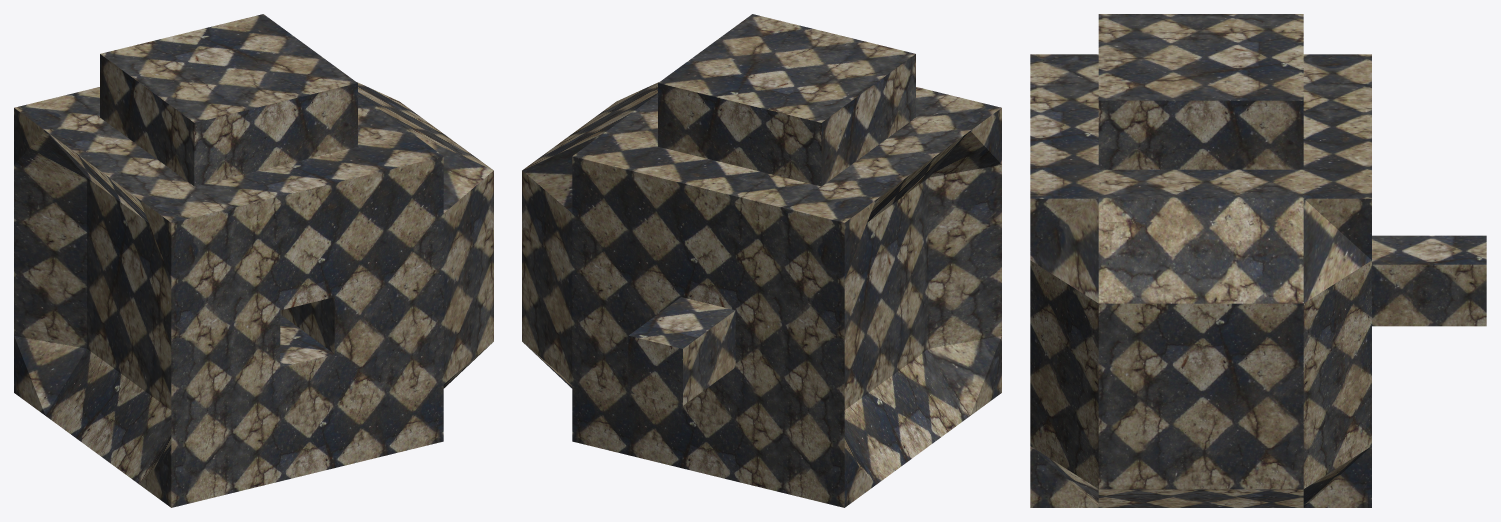
The model's file is weird_cube.dae.
The picture shows the model from 3 angles, left to right: view 1: azimuth 30°, elevation 25°; view 2: azimuth 150°, elevation 25°; view 3: azimuth 270°, elevation 25°; orthographic projection. The views are drawn at different scales.
Parts seen in each view (by area): view 1: Cube; view 2: Cube; view 3: Cube.
Boxes of the visible parts, box(x1,y1,x2,y2) form: Cube: box(14, 14, 493, 507); Cube: box(522, 14, 1001, 507); Cube: box(1030, 14, 1486, 507).
Size of the model in its own units: 2.27 by 2.33 by 2.13.
1 material, 1 textured.
